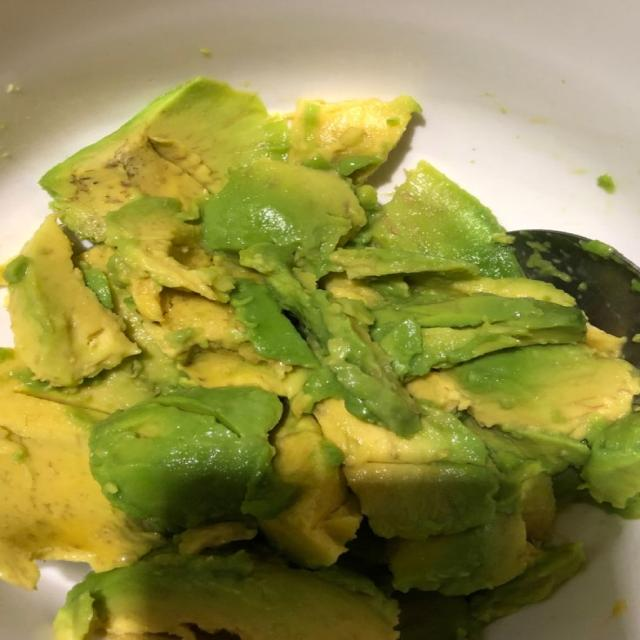avocado: (40, 78, 287, 240), (240, 244, 419, 435), (0, 385, 159, 588), (55, 552, 398, 639), (90, 387, 291, 531), (315, 399, 499, 539), (8, 215, 139, 386), (203, 159, 366, 274), (444, 344, 639, 440), (372, 293, 586, 376), (371, 162, 521, 277), (81, 244, 187, 394), (105, 198, 233, 321), (259, 414, 361, 568), (345, 462, 499, 540), (389, 513, 533, 595), (288, 96, 421, 183), (471, 543, 585, 623), (12, 359, 155, 414), (230, 279, 318, 367), (464, 417, 590, 474), (181, 346, 308, 397), (581, 412, 639, 508), (330, 247, 476, 279), (394, 590, 484, 639), (448, 277, 575, 306)
